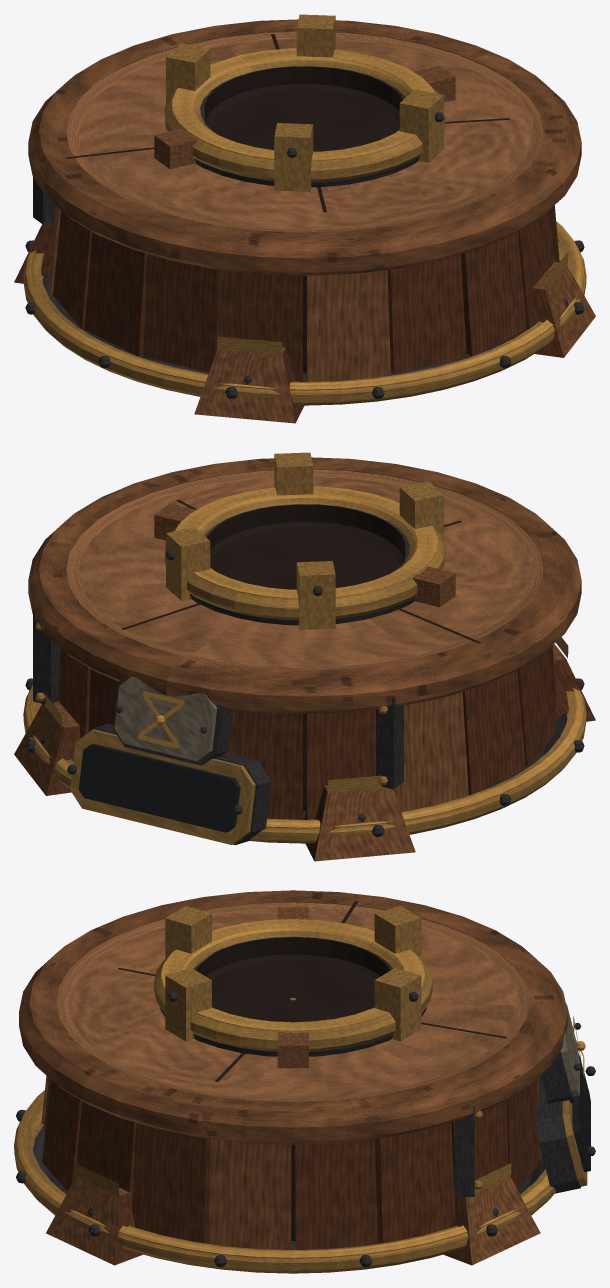
Rendered from TimerPedestal.obj.
The picture shows the model from 3 angles, top to bottom: view 1: azimuth 30°, elevation 25°; view 2: azimuth 150°, elevation 25°; view 3: azimuth 270°, elevation 25°; orthographic projection.
Visible parts, largest first — view 1: 01_Rustic_Wood_Staves, 04_Wooden_Top_Face, 03_Wooden_Top_Rim, 15_Candle_Socket_Inner_Shadow, 10_Chunky_Wood_Feet, 06_Base_Brass_Band, 17_Brass_Candle_Clamps, 14_Candle_Socket_Ring, 16_Socket_Bright_Rim, 07_Base_Band_Top_Bevel, 19_Candle_Socket_Wood_Keys, 13_Candle_Socket_Lower_Dark (+5 smaller); view 2: 04_Wooden_Top_Face, 03_Wooden_Top_Rim, 01_Rustic_Wood_Staves, 15_Candle_Socket_Inner_Shadow, 10_Chunky_Wood_Feet, 22_Countdown_Black_Glass, 17_Brass_Candle_Clamps, 14_Candle_Socket_Ring, 16_Socket_Bright_Rim, 06_Base_Brass_Band, 25_TimerType_Badge_Slate, 21_Countdown_Brass_Frame (+11 smaller); view 3: 01_Rustic_Wood_Staves, 04_Wooden_Top_Face, 03_Wooden_Top_Rim, 15_Candle_Socket_Inner_Shadow, 17_Brass_Candle_Clamps, 10_Chunky_Wood_Feet, 06_Base_Brass_Band, 14_Candle_Socket_Ring, 16_Socket_Bright_Rim, 07_Base_Band_Top_Bevel, 20_Countdown_Backing, 28_Corner_Iron_Straps (+10 smaller).
Part boxes in pixels (left/top/right/bottom): 01_Rustic_Wood_Staves: left=50, top=117, right=559, bottom=381; 04_Wooden_Top_Face: left=66, top=31, right=543, bottom=232; 03_Wooden_Top_Rim: left=28, top=19, right=581, bottom=275; 15_Candle_Socket_Inner_Shadow: left=204, top=66, right=402, bottom=151; 10_Chunky_Wood_Feet: left=14, top=222, right=595, bottom=423; 06_Base_Brass_Band: left=23, top=225, right=586, bottom=405; 17_Brass_Candle_Clamps: left=166, top=14, right=443, bottom=191; 14_Candle_Socket_Ring: left=164, top=60, right=445, bottom=181; 16_Socket_Bright_Rim: left=172, top=48, right=434, bottom=160; 07_Base_Band_Top_Bevel: left=26, top=221, right=583, bottom=390; 19_Candle_Socket_Wood_Keys: left=154, top=65, right=455, bottom=169; 13_Candle_Socket_Lower_Dark: left=195, top=66, right=419, bottom=187; 04_Wooden_Top_Face: left=66, top=469, right=543, bottom=670; 03_Wooden_Top_Rim: left=28, top=457, right=581, bottom=713; 01_Rustic_Wood_Staves: left=58, top=558, right=556, bottom=819; 15_Candle_Socket_Inner_Shadow: left=207, top=504, right=405, bottom=589; 10_Chunky_Wood_Feet: left=14, top=643, right=595, bottom=861; 22_Countdown_Black_Glass: left=78, top=743, right=240, bottom=832; 17_Brass_Candle_Clamps: left=166, top=452, right=443, bottom=629; 14_Candle_Socket_Ring: left=164, top=498, right=445, bottom=619; 16_Socket_Bright_Rim: left=175, top=486, right=437, bottom=598; 06_Base_Brass_Band: left=23, top=685, right=586, bottom=843; 25_TimerType_Badge_Slate: left=114, top=676, right=217, bottom=761; 21_Countdown_Brass_Frame: left=70, top=729, right=255, bottom=844; 01_Rustic_Wood_Staves: left=41, top=1000, right=541, bottom=1249; 04_Wooden_Top_Face: left=56, top=902, right=529, bottom=1101; 03_Wooden_Top_Rim: left=19, top=890, right=567, bottom=1144; 15_Candle_Socket_Inner_Shadow: left=196, top=937, right=390, bottom=1022; 17_Brass_Candle_Clamps: left=165, top=906, right=421, bottom=1041; 10_Chunky_Wood_Feet: left=46, top=1176, right=540, bottom=1265; 06_Base_Brass_Band: left=14, top=1093, right=556, bottom=1273; 14_Candle_Socket_Ring: left=154, top=930, right=432, bottom=1051; 16_Socket_Bright_Rim: left=161, top=919, right=425, bottom=1031; 07_Base_Band_Top_Bevel: left=16, top=1090, right=549, bottom=1258; 20_Countdown_Backing: left=535, top=1075, right=580, bottom=1193; 28_Corner_Iron_Straps: left=454, top=932, right=474, bottom=1196.
Bounding box in the file's own units: 1.79 × 0.788 × 1.87.
Materials: 9 (9 with a texture image).
